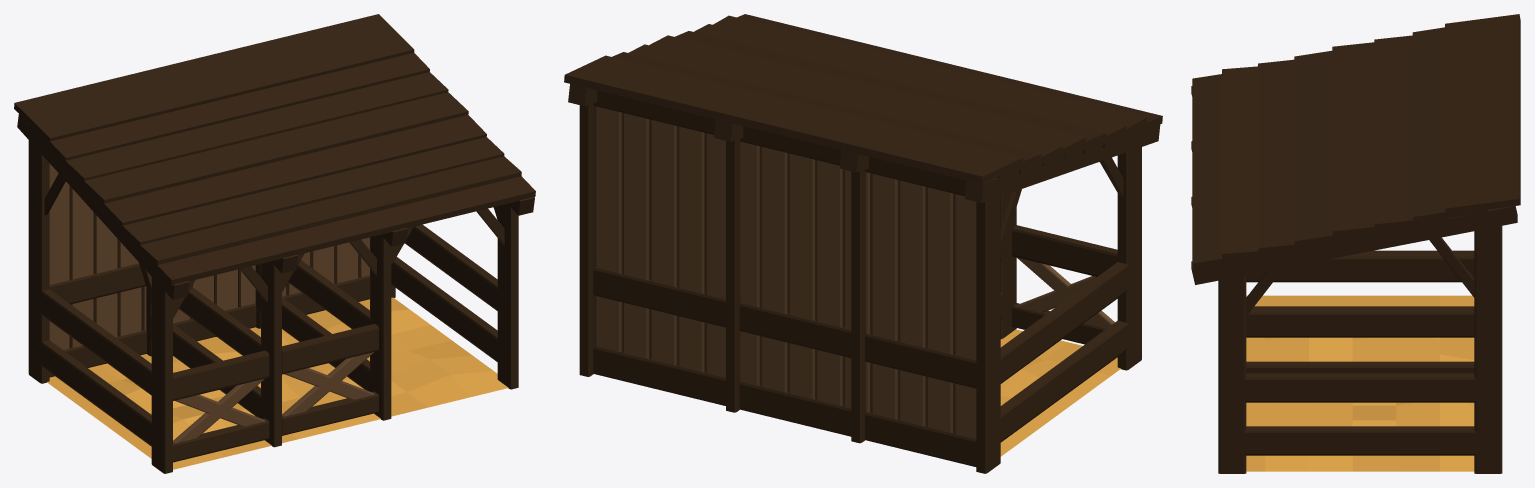
Rendered from Stables_001.fbx.
3 renders of one model, left to right at view 1: azimuth 30°, elevation 25°; view 2: azimuth 150°, elevation 25°; view 3: azimuth 270°, elevation 25°, orthographic. The views are drawn at different scales.
Parts seen in each view (by area): view 1: stables_001; view 2: stables_001; view 3: stables_001.
Boxes of the visible parts, x1=… form: stables_001: x1=14, y1=14, x2=535, y2=473; stables_001: x1=564, y1=14, x2=1162, y2=473; stables_001: x1=1191, y1=14, x2=1520, y2=473.
Bounding box in the file's own units: 517 × 362 × 389.
